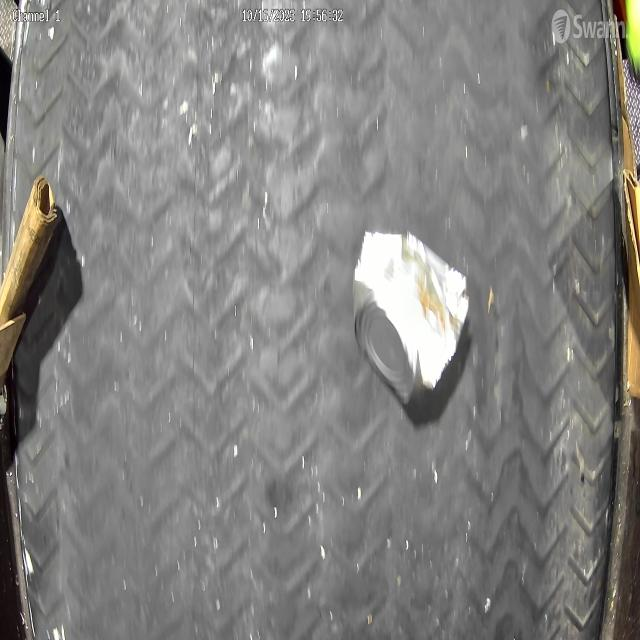can: (348, 227, 471, 415)
